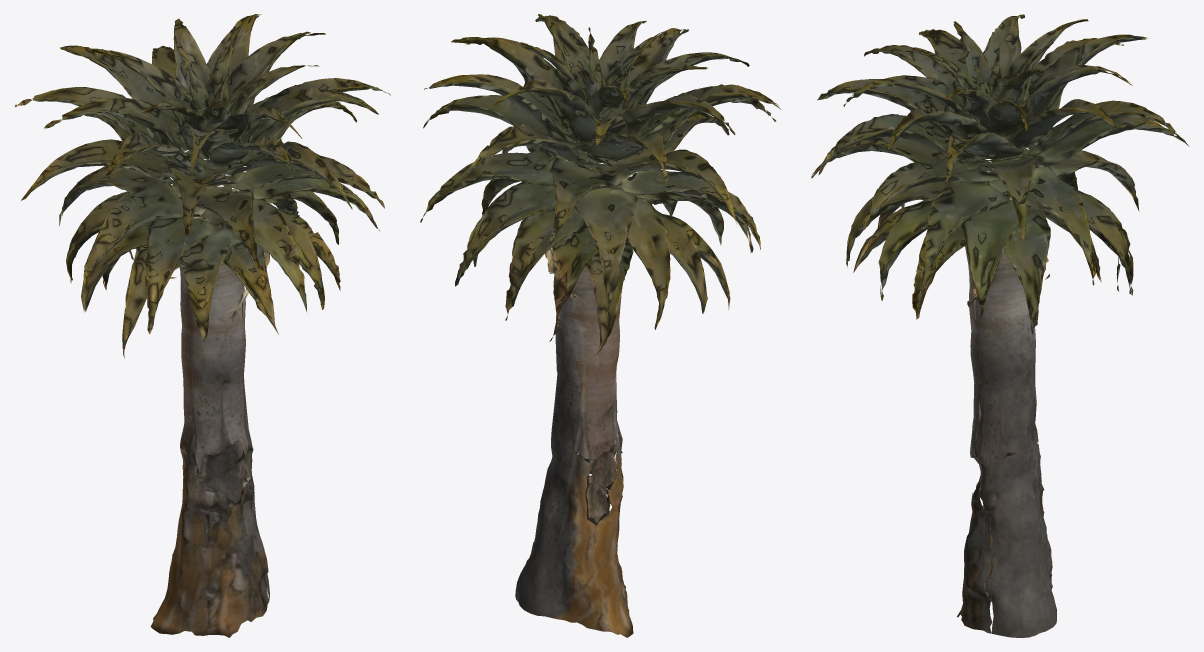
File: quiver2.glb
3 views of the same model, side by side, from view 1: azimuth 30°, elevation 25°; view 2: azimuth 150°, elevation 25°; view 3: azimuth 270°, elevation 25° (orthographic).
Parts seen in each view (by area): view 1: quiver_tree_02; view 2: quiver_tree_02; view 3: quiver_tree_02.
Part boxes in pixels (<box>): quiver_tree_02: <box>14,14,390,637</box>; quiver_tree_02: <box>420,14,780,637</box>; quiver_tree_02: <box>811,14,1189,637</box>.
Bounding box in the file's own units: 2.16 × 3.67 × 2.18.
Materials: 1 (1 with a texture image).
